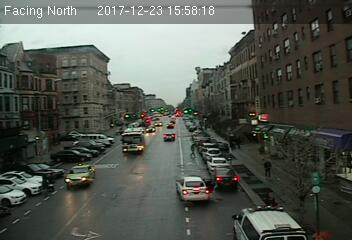bus: (121, 127, 147, 154)
car: (176, 177, 210, 201), (65, 163, 96, 187), (208, 165, 238, 188), (207, 156, 230, 170), (162, 132, 175, 142)
pedestrian: (263, 160, 274, 180)
police: (232, 201, 306, 240)
